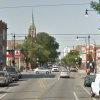Car: (51, 63, 70, 80)
